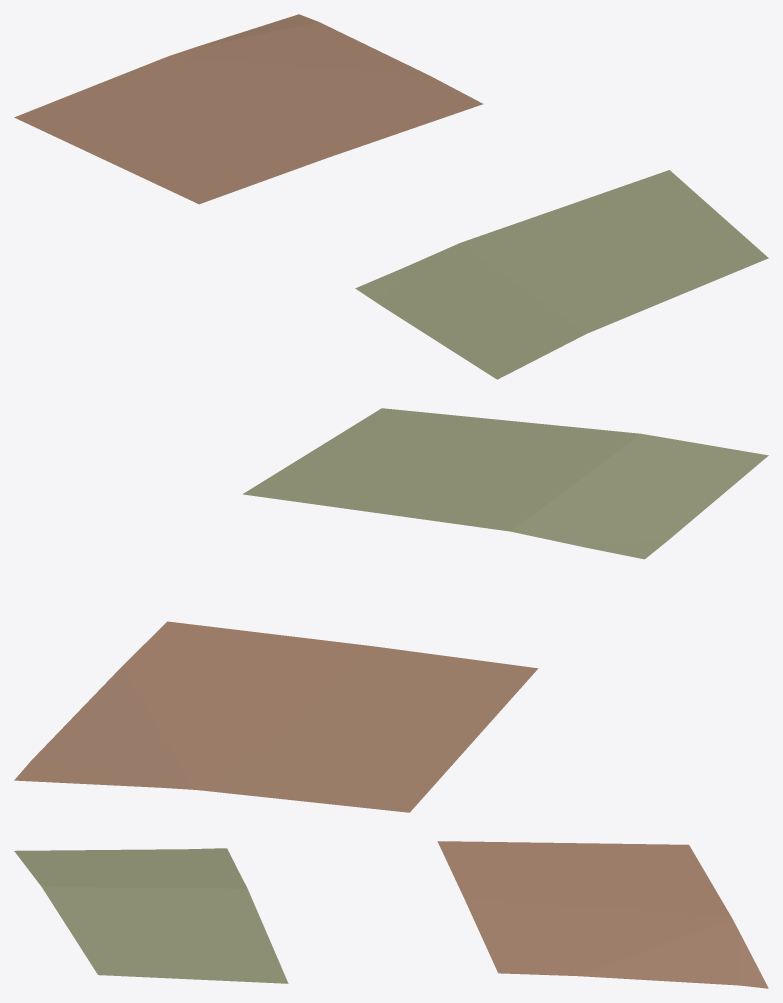
The model's file is farm_-20_-26_soil.glb.
The picture shows the model from 3 angles, top to bottom: view 1: azimuth 30°, elevation 25°; view 2: azimuth 150°, elevation 25°; view 3: azimuth 270°, elevation 25°; orthographic projection. The views are drawn at different scales.
Visible parts, largest first — view 1: geometry_0; view 2: geometry_0; view 3: geometry_0.
Boxes of the visible parts, x1,y1,x2,y2 form: geometry_0: (14, 14, 768, 379); geometry_0: (14, 408, 768, 812); geometry_0: (14, 841, 768, 988).
Bounding box in the file's own units: 69.17 × 7.64 × 136.
